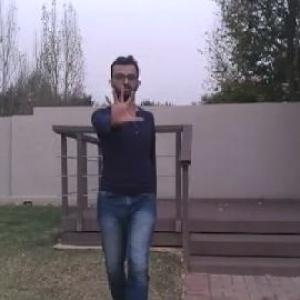follow_hand: (101, 81, 146, 127)
